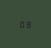eight: (25, 20, 30, 27)
zero: (19, 20, 24, 28)
